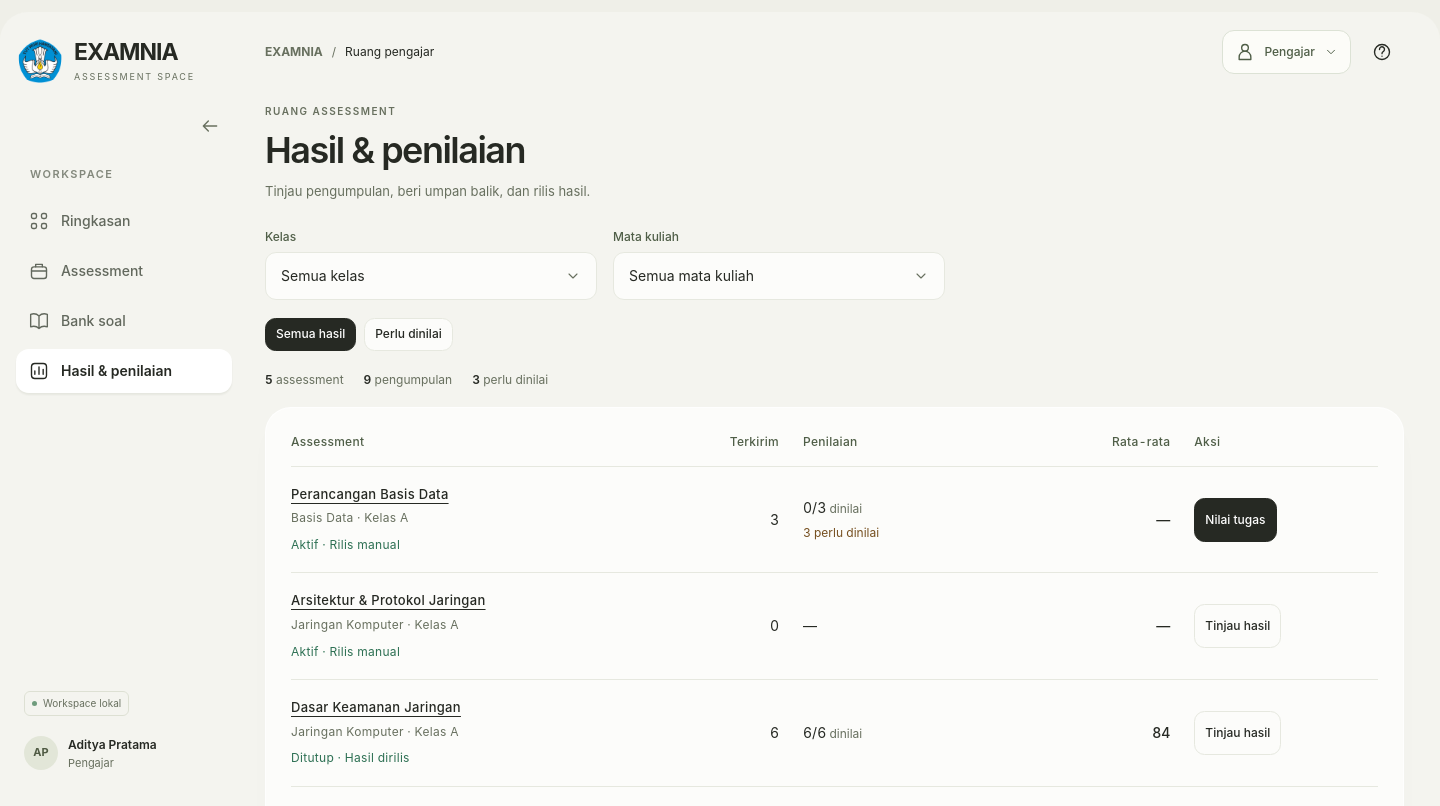
Scenario: keeps result filters local and cancels route effects before input changes
This screenshot has width=1440, height=806.
Click the dropdown labelled "Semua kelas" at (323, 275), box [265,252,597,300]
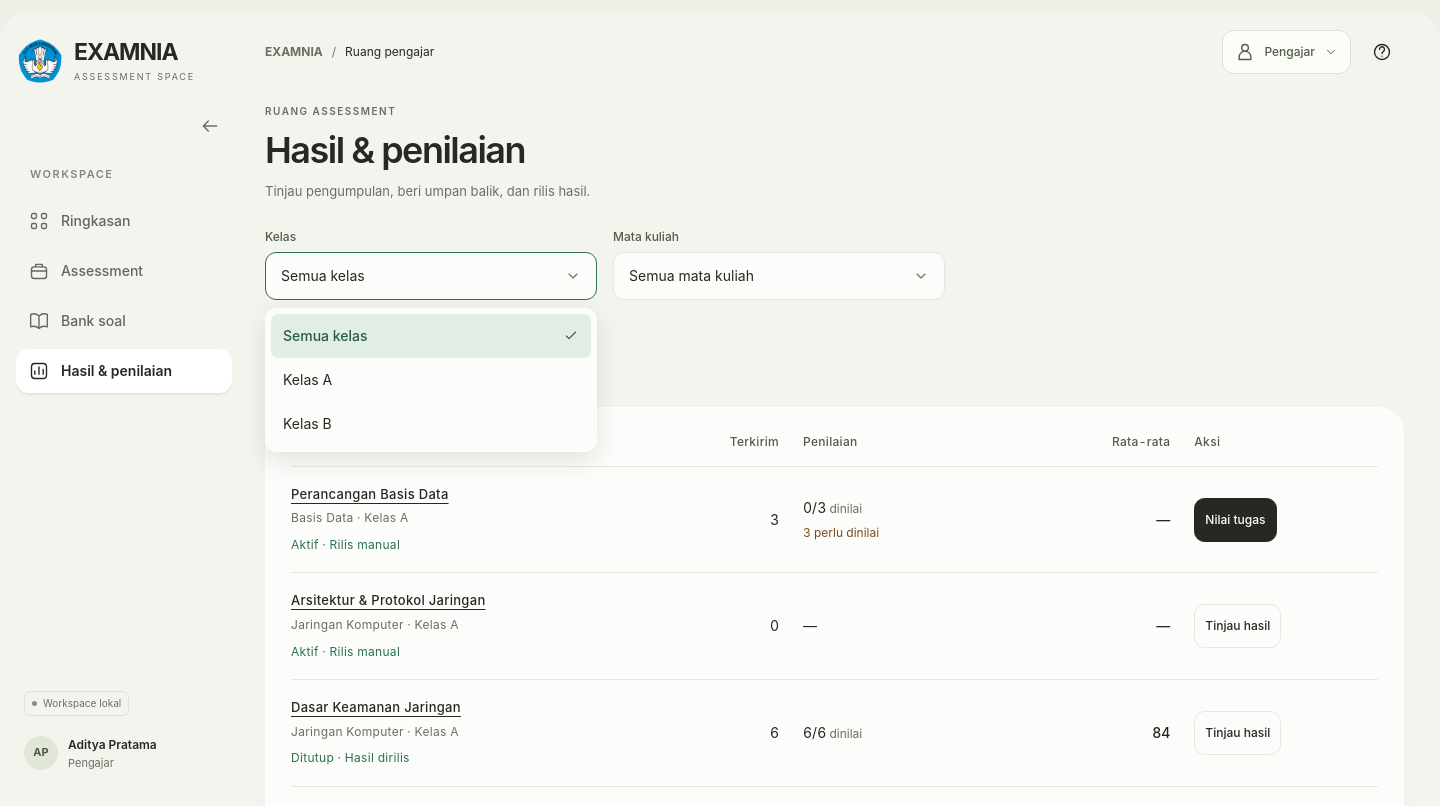
Click the option with class "soft-field-option" showing "Kelas B" at (307, 423), box [283,415,332,432]
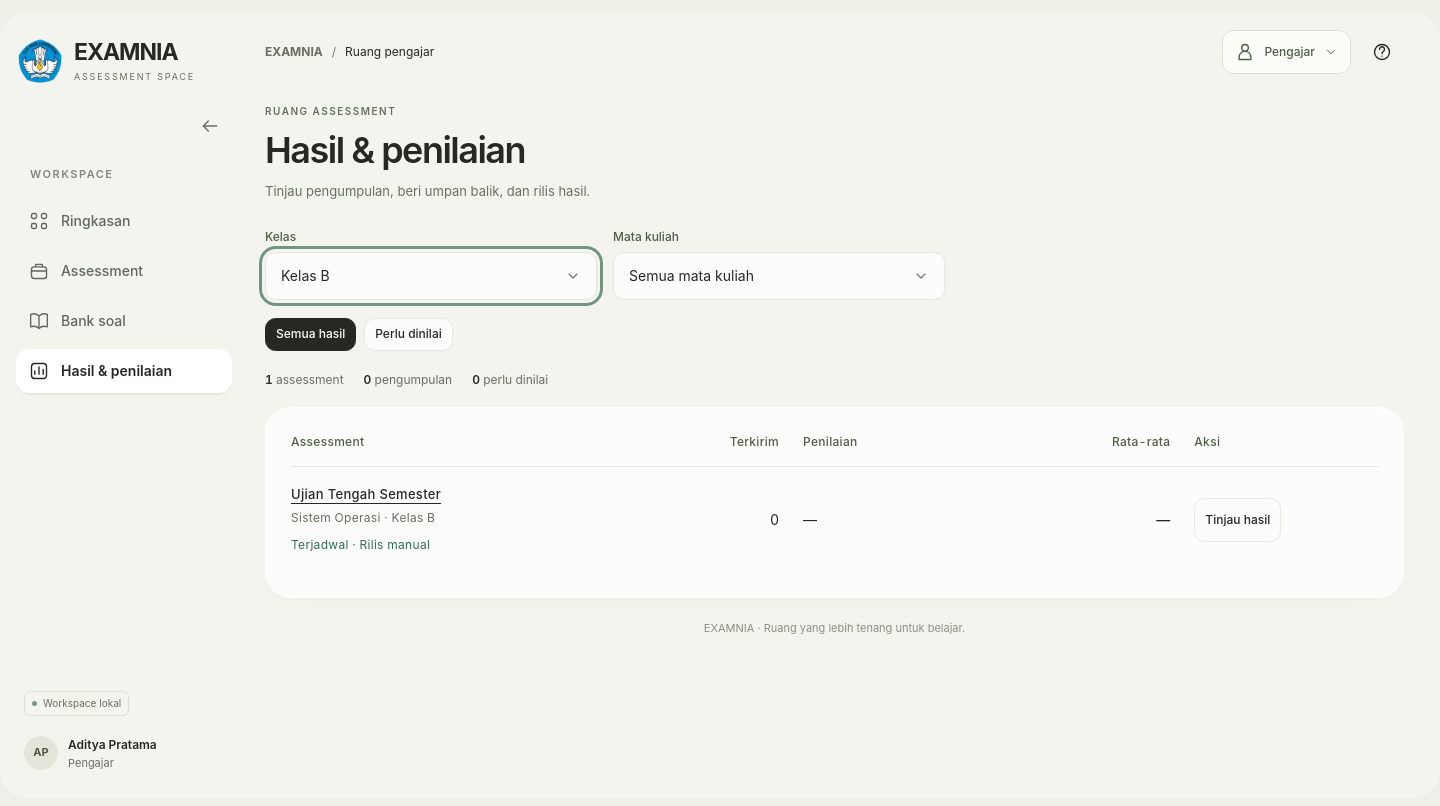
Click the dropdown labelled "Semua mata kuliah" at (691, 275), box [613,252,945,300]
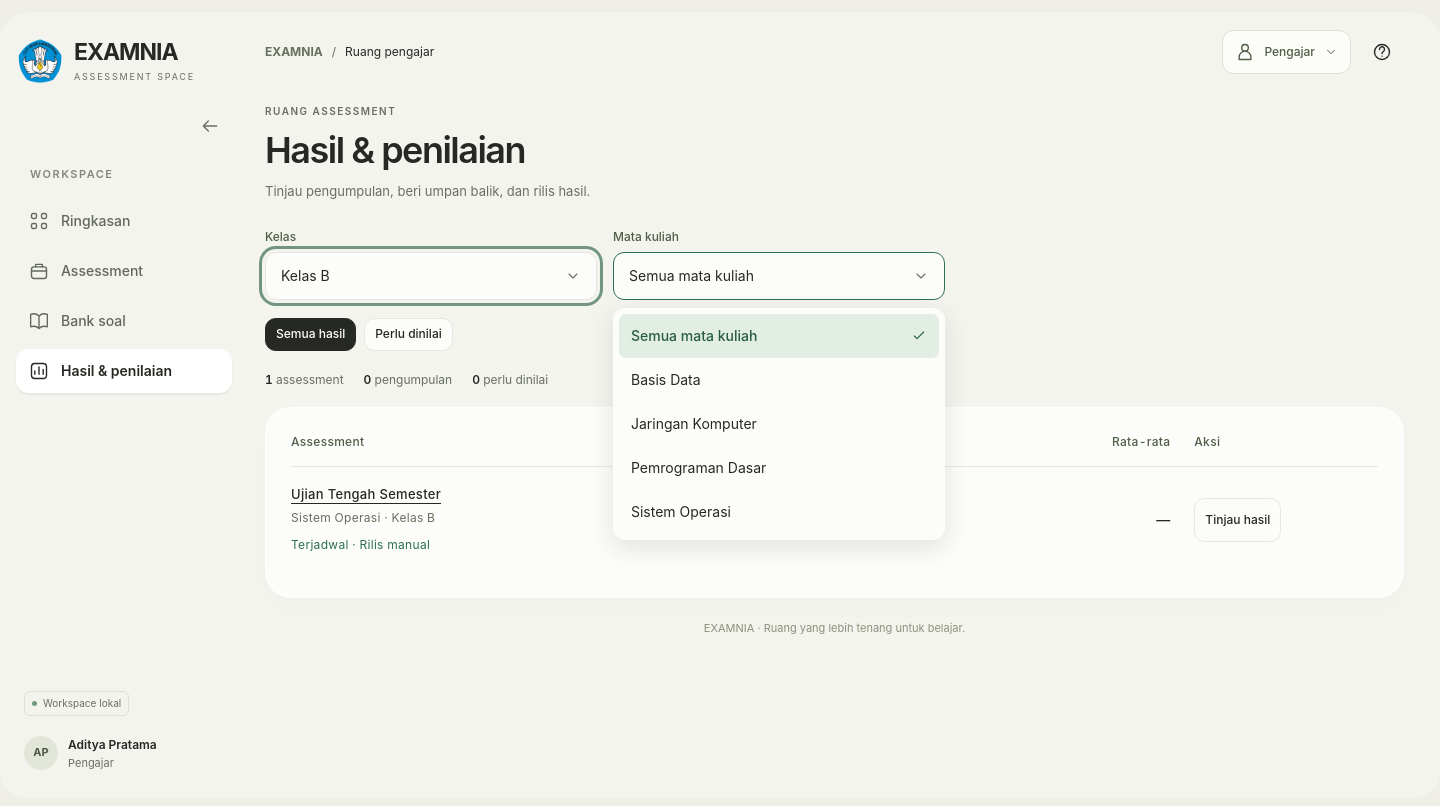
Click the option with class "soft-field-option" showing "Basis Data" at (666, 379), box [631,371,701,388]
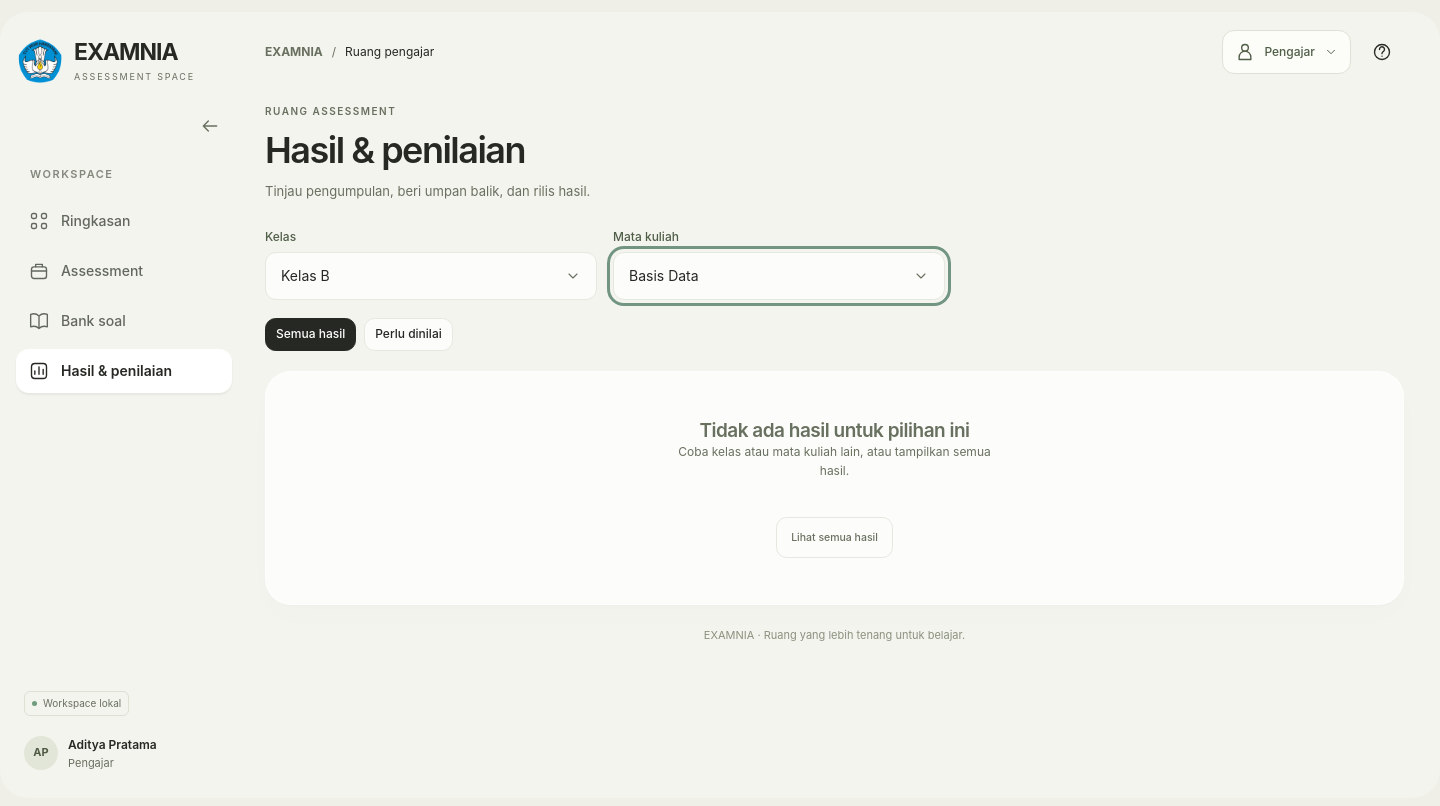
Check: the text "Tidak ada hasil untuk pilihan ini" is shown, box [700,418,970,442]
